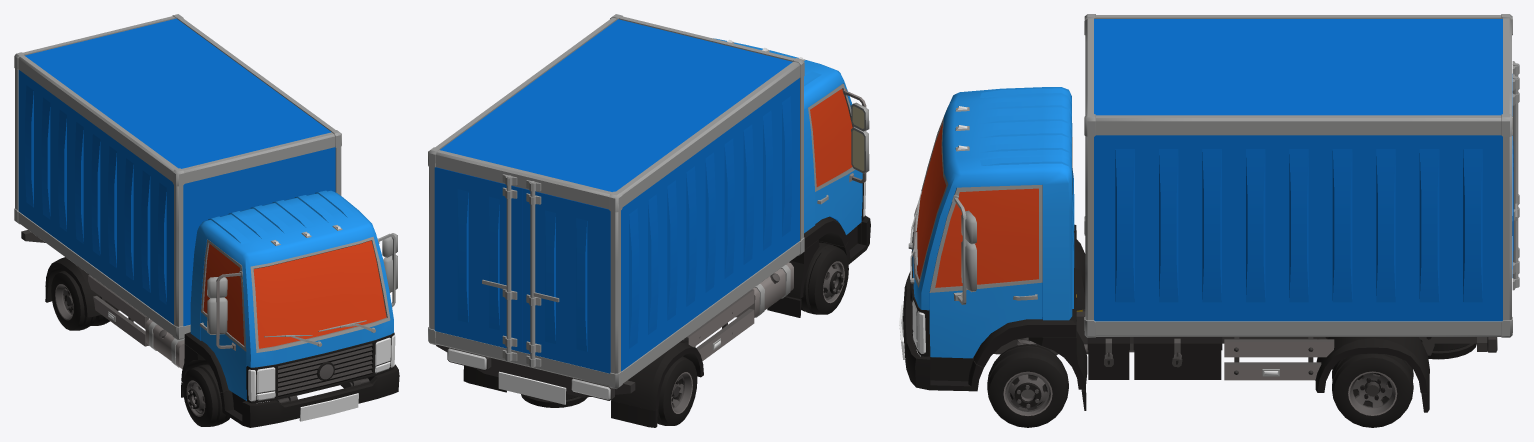
Rendered from Sketchfab_truck.fbx.
3 renders of one model, left to right at view 1: azimuth 30°, elevation 25°; view 2: azimuth 150°, elevation 25°; view 3: azimuth 270°, elevation 25°, orthographic. The views are drawn at different scales.
Visible parts, largest first — view 1: Container, Cabin, Doors_FR, Grill_F, Bumper_F, ChassisAsymetry, Body, Wheel_FR, Wheel_RR, Doors_FL, Headlight_FR, Headlight_FL (+1 smaller); view 2: Container, ContainerDoors_L, ContainerDoors_R, Body, Doors_FR, Cabin, ChassisAsymetry, Wheel_FR, Wheel_RR, Lights_RL, Lights_RR, SpareTire; view 3: Container, Cabin, Doors_FL, ChassisAsymetry, Body, Wheel_FL, Wheel_RL, Bumper_F, ContainerDoors_L, SpareTire.
Part boxes in pixels (<box>): Container: <box>14,14,341,339</box>; Cabin: <box>184,190,393,403</box>; Doors_FR: <box>199,239,246,400</box>; Grill_F: <box>246,332,394,403</box>; Bumper_F: <box>242,364,399,427</box>; ChassisAsymetry: <box>88,275,184,369</box>; Body: <box>21,230,385,424</box>; Wheel_FR: <box>183,364,229,426</box>; Wheel_RR: <box>51,270,109,330</box>; Doors_FL: <box>377,233,397,307</box>; Headlight_FR: <box>256,367,275,400</box>; Headlight_FL: <box>375,337,391,373</box>; Container: <box>428,14,804,388</box>; ContainerDoors_L: <box>434,167,522,353</box>; ContainerDoors_R: <box>522,181,610,373</box>; Body: <box>436,222,866,427</box>; Doors_FR: <box>808,83,869,234</box>; Cabin: <box>713,38,852,249</box>; ChassisAsymetry: <box>681,262,793,360</box>; Wheel_FR: <box>800,242,848,314</box>; Wheel_RR: <box>657,356,697,425</box>; Lights_RL: <box>447,347,491,370</box>; Lights_RR: <box>571,378,614,400</box>; SpareTire: <box>521,394,587,407</box>; Container: <box>1084,14,1519,337</box>; Cabin: <box>912,87,1085,367</box>; Doors_FL: <box>929,185,1042,358</box>; ChassisAsymetry: <box>1087,337,1334,380</box>; Body: <box>930,311,1487,412</box>; Wheel_FL: <box>987,344,1068,427</box>; Wheel_RL: <box>1332,353,1413,427</box>; Bumper_F: <box>899,271,930,390</box>; ContainerDoors_L: <box>1512,76,1519,278</box>; SpareTire: <box>1428,343,1476,359</box>.
Size of the model in its own units: 1.31 by 1.56 by 2.82.
